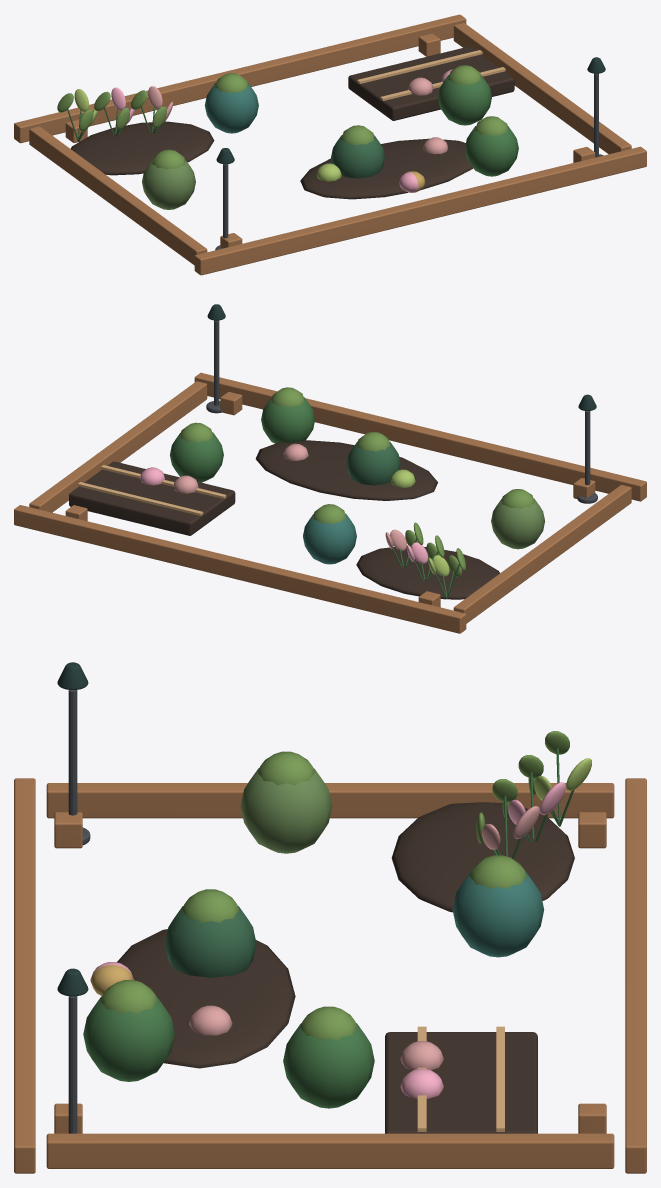
The model's file is garden_ready_plain.glb.
The picture shows the model from 3 angles, top to bottom: view 1: azimuth 30°, elevation 25°; view 2: azimuth 150°, elevation 25°; view 3: azimuth 270°, elevation 25°; orthographic projection. The views are drawn at different scales.
Visible parts, largest first — view 1: Tint, Shaped bed.001, Shaped bed, Kitchen bed, Shrub.003, Shrub.002, Shrub.004, Shrub.001, Shrub, Kitchen bed divider, Shrub crown, Shrub crown.004 (+5 smaller); view 2: Tint, Kitchen bed, Shaped bed.001, Shaped bed, Shrub.003, Shrub.002, Shrub.001, Shrub.004, Shrub, Kitchen bed divider, Shrub crown.004, Path light post.001 (+4 smaller); view 3: Tint, Kitchen bed, Shaped bed.001, Shaped bed, Shrub.001, Shrub.003, Shrub.004, Shrub.002, Shrub, Shrub crown.003, Shrub crown.001, Shrub crown.002 (+9 smaller).
Part boxes in pixels (x1,y1,x2,y2): Tint: [14, 14, 646, 275]; Shaped bed.001: [300, 138, 473, 199]; Shaped bed: [70, 121, 214, 175]; Kitchen bed: [348, 46, 514, 120]; Shrub.003: [142, 159, 195, 209]; Shrub.002: [204, 83, 258, 133]; Shrub.004: [465, 126, 518, 176]; Shrub.001: [438, 74, 491, 125]; Shrub: [331, 135, 384, 178]; Kitchen bed divider: [357, 50, 482, 83]; Shrub crown: [341, 125, 374, 145]; Shrub crown.004: [475, 116, 508, 136]; Tint: [14, 372, 646, 633]; Kitchen bed: [69, 461, 235, 535]; Shaped bed.001: [255, 440, 437, 500]; Shaped bed: [356, 547, 499, 599]; Shrub.003: [491, 498, 544, 549]; Shrub.002: [303, 513, 356, 564]; Shrub.001: [170, 432, 223, 482]; Shrub.004: [261, 397, 315, 443]; Shrub: [346, 441, 400, 485]; Kitchen bed divider: [77, 482, 203, 515]; Shrub crown.004: [271, 387, 304, 407]; Path light post.001: [214, 320, 219, 405]; Tint: [14, 778, 646, 1173]; Kitchen bed: [385, 1032, 537, 1133]; Shaped bed.001: [117, 929, 295, 1068]; Shaped bed: [391, 802, 574, 912]; Shrub.001: [283, 1023, 374, 1108]; Shrub.003: [240, 768, 332, 853]; Shrub.004: [83, 996, 174, 1081]; Shrub.002: [452, 872, 544, 957]; Shrub: [165, 906, 256, 977]; Shrub crown.003: [258, 751, 314, 785]; Shrub crown.001: [300, 1006, 357, 1040]; Shrub crown.002: [470, 855, 526, 888].
Bounding box in the file's own units: 4 × 0.91 × 2.9.
